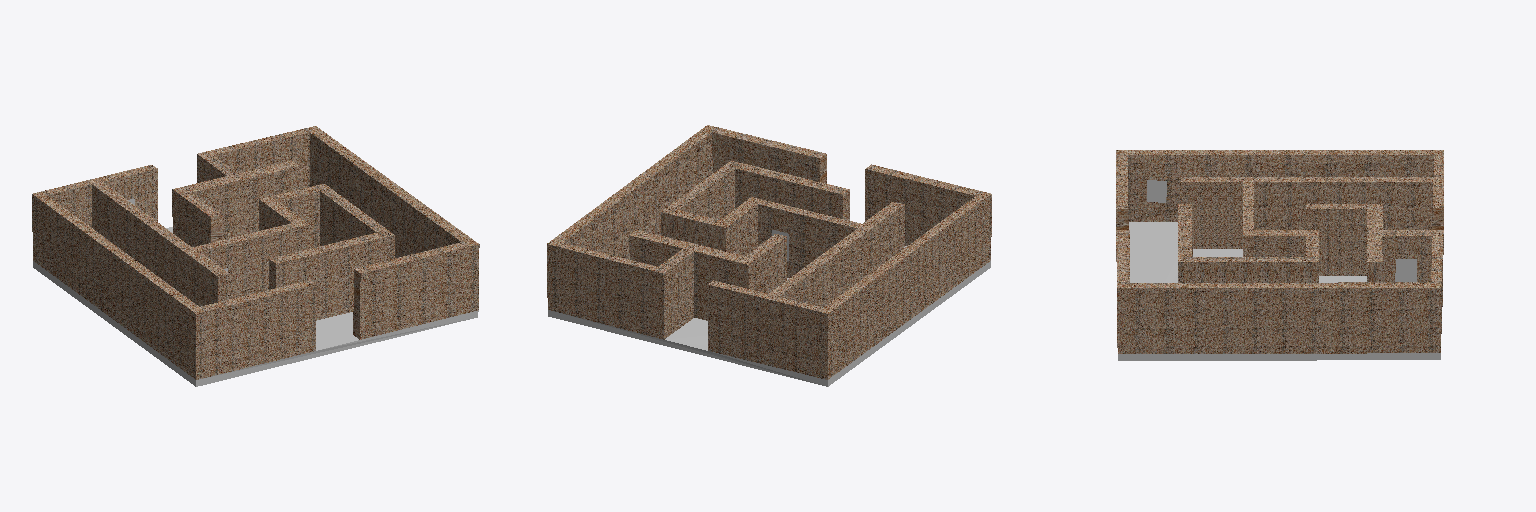
The picture shows the model from 3 angles: view 1: azimuth 30°, elevation 25°; view 2: azimuth 150°, elevation 25°; view 3: azimuth 270°, elevation 25°; orthographic projection.
Visible parts, largest first — view 1: Cube; view 2: Cube; view 3: Cube.
Boxes of the visible parts, x1,y1,x2,y2 form: Cube: [32, 126, 479, 386]; Cube: [547, 125, 991, 386]; Cube: [1116, 150, 1443, 360].
Size of the model in its own units: 9.54 by 2.36 by 9.55.
Materials: 3 (1 with a texture image).